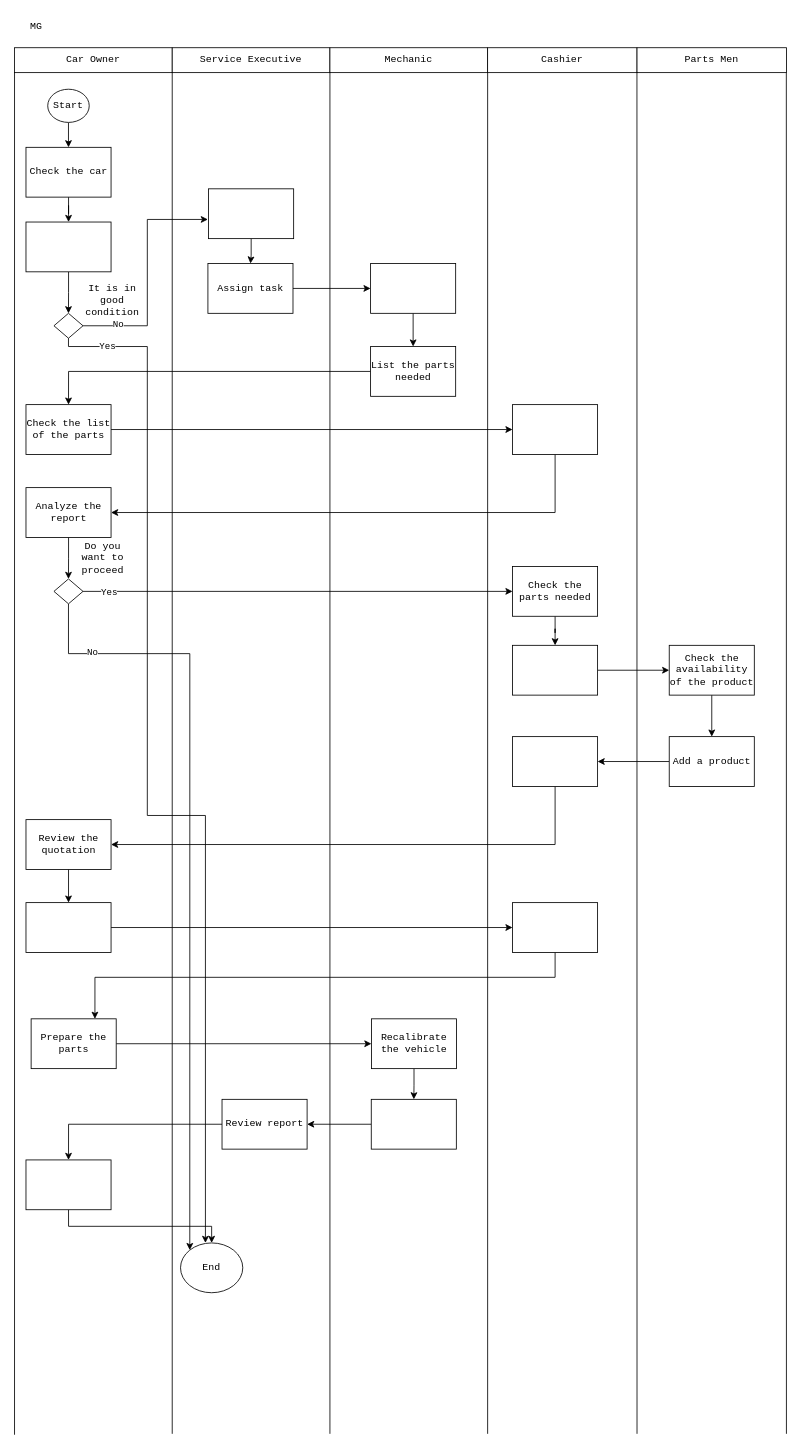
Some shapes in this 802 by 1450 pixel diagram are drawn without their labels. The centre of each missing label's shape, as x and y in pixels:
Diagnostic the vehicle: the point at 413,288
Documents the result: the point at 251,213
Estimate the product and labour: the point at 555,429
Evaluate report: the point at 68,1184
Find needed parts: the point at 555,669
Prepare receipt and the product: the point at 555,927
Prepare the payment: the point at 68,927
Provide quotation: the point at 555,761
Report the accomplishment: the point at 413,1124
Set the schedule: the point at 68,246
